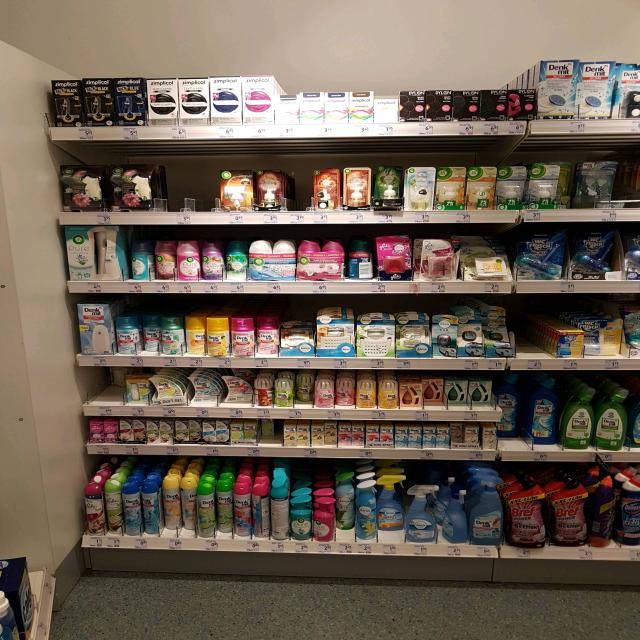empty: (159, 166, 220, 216), (512, 297, 555, 361), (81, 366, 127, 411), (281, 165, 320, 216)
